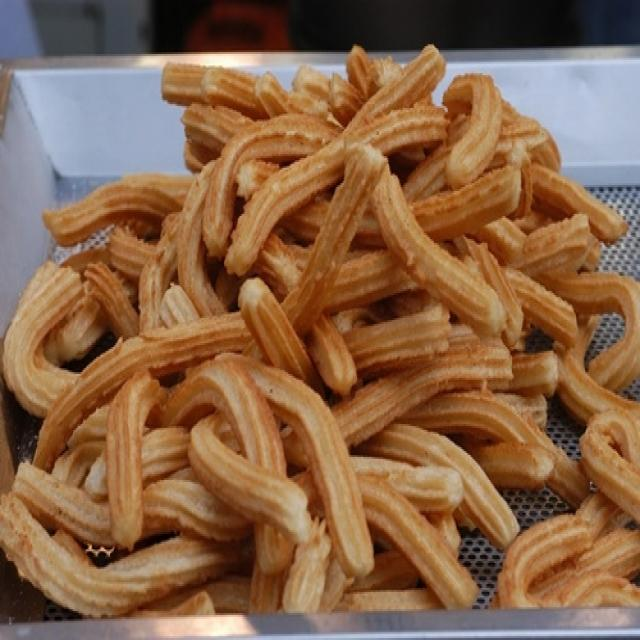炸货点心: (23, 37, 620, 630)
